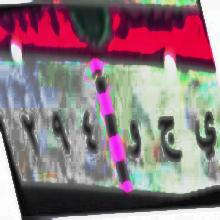2: (21, 108, 41, 166)
4: (80, 105, 100, 166)
9: (50, 105, 72, 159)
jeem: (155, 110, 183, 171)
waw: (125, 111, 141, 170)
yaa: (194, 108, 219, 167)
